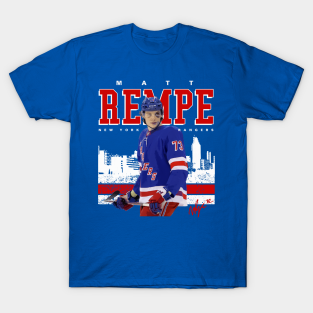design: (96, 78, 217, 218)
